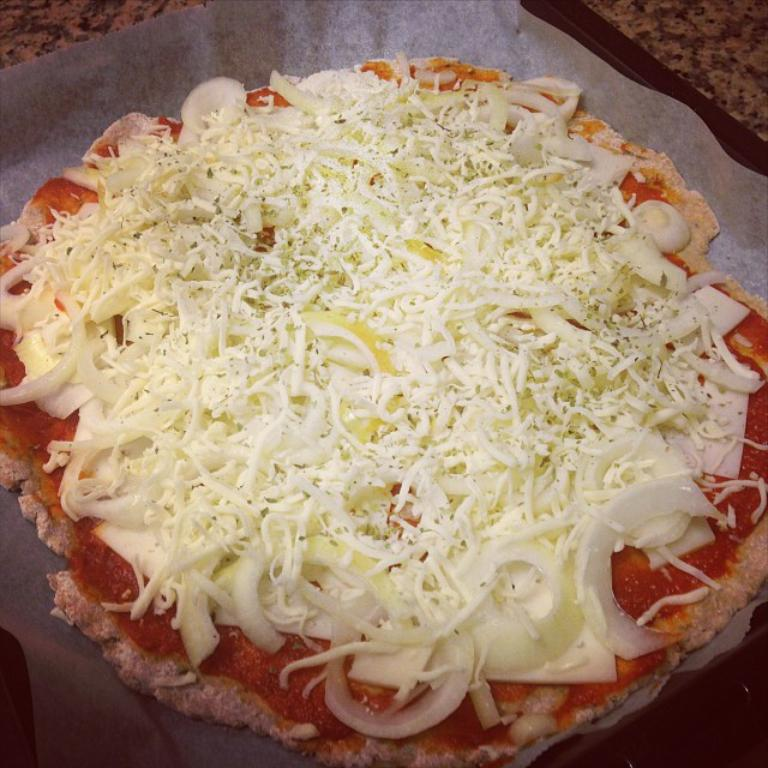pizza: (0, 89, 755, 768)
